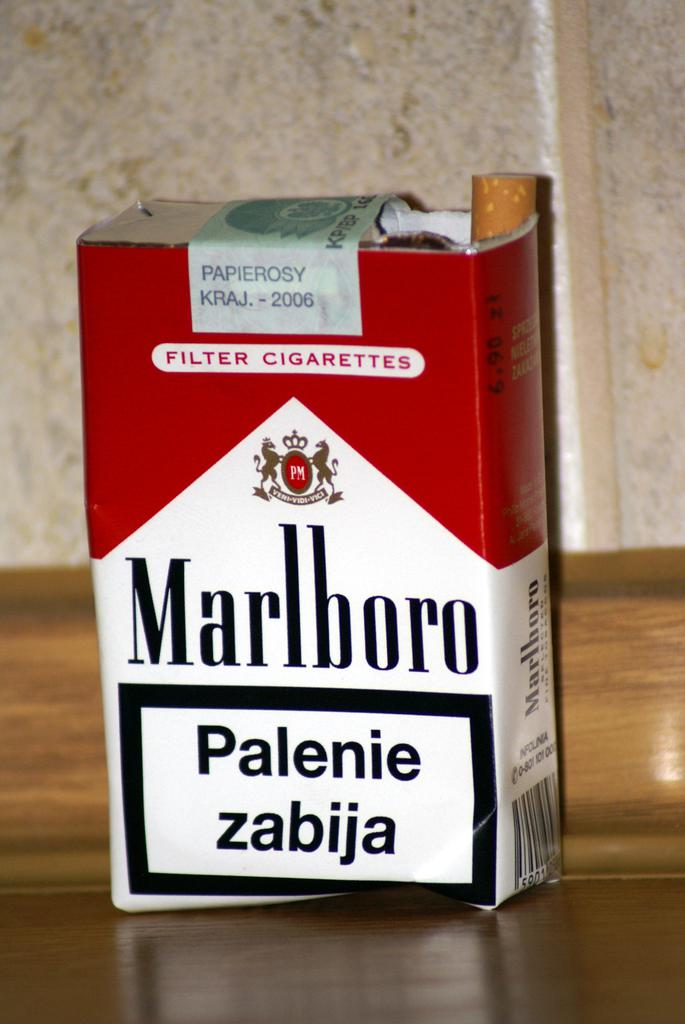marlboro_red: (107, 242, 492, 902)
